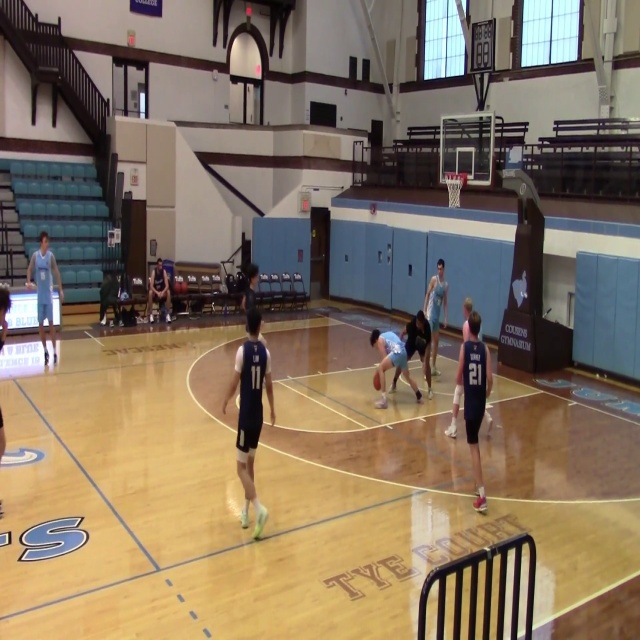Basketball: (171, 276, 188, 295), (373, 370, 382, 390)
